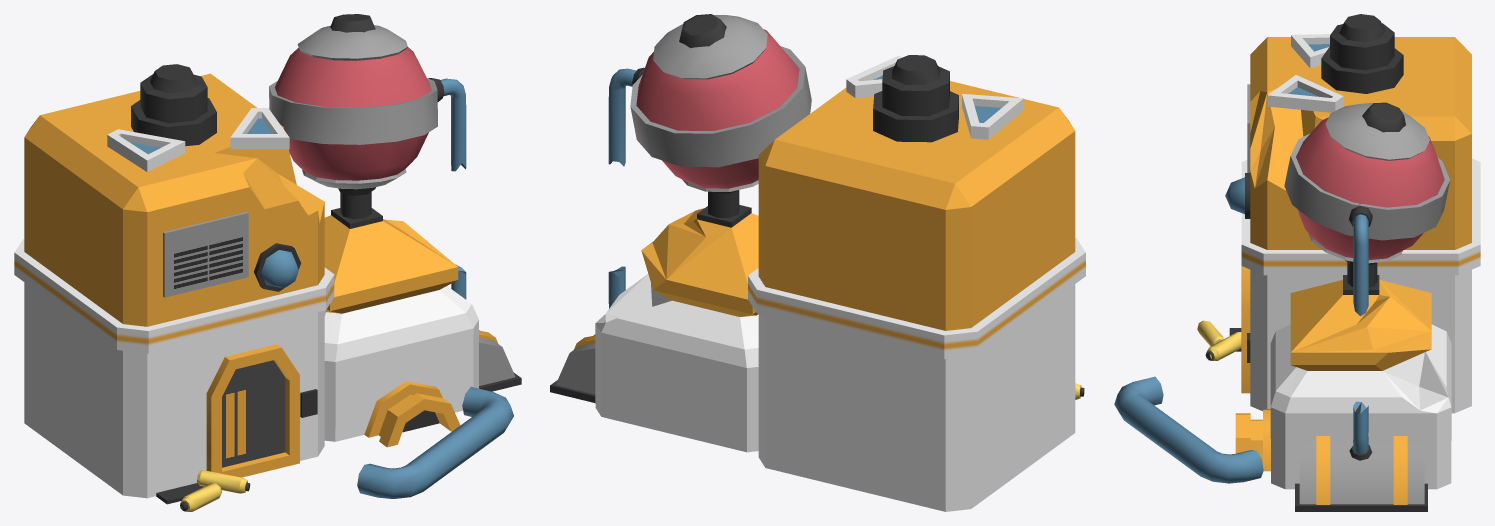
Rendered from M_laboratoryB.fbx.
The picture shows the model from 3 angles, left to right: view 1: azimuth 30°, elevation 25°; view 2: azimuth 150°, elevation 25°; view 3: azimuth 270°, elevation 25°; orthographic projection. The views are drawn at different scales.
Parts seen in each view (by area): view 1: Box020; view 2: Box020; view 3: Box020.
Boxes of the visible parts, x1=… form: Box020: x1=14, y1=14, x2=521, y2=511; Box020: x1=550, y1=14, x2=1085, y2=511; Box020: x1=1114, y1=14, x2=1480, y2=511.
Size of the model in its own units: 4427 by 3667 by 3505.
